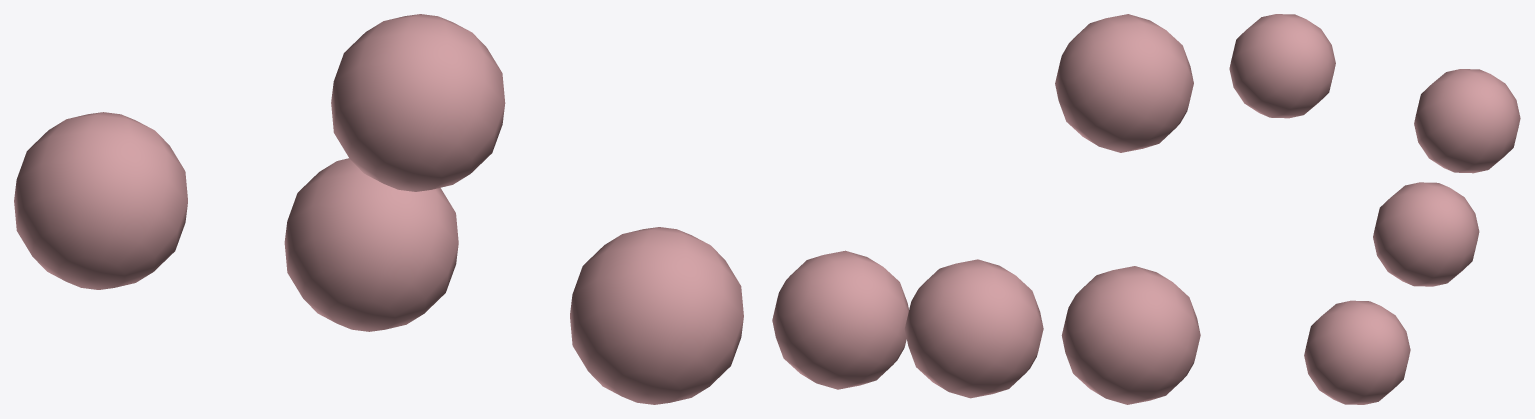
The picture shows the model from 3 angles, left to right: view 1: azimuth 30°, elevation 25°; view 2: azimuth 150°, elevation 25°; view 3: azimuth 270°, elevation 25°; orthographic projection. The views are drawn at different scales.
Visible parts, largest first — view 1: ZA_45e4623ed572f371; view 2: ZA_45e4623ed572f371; view 3: ZA_45e4623ed572f371.
Boxes of the visible parts, <box> form: ZA_45e4623ed572f371: <box>14,14,743,404</box>; ZA_45e4623ed572f371: <box>772,14,1200,404</box>; ZA_45e4623ed572f371: <box>1229,14,1520,404</box>.
Size of the model in its own units: 0.0104 by 0.00789 by 0.00707.
